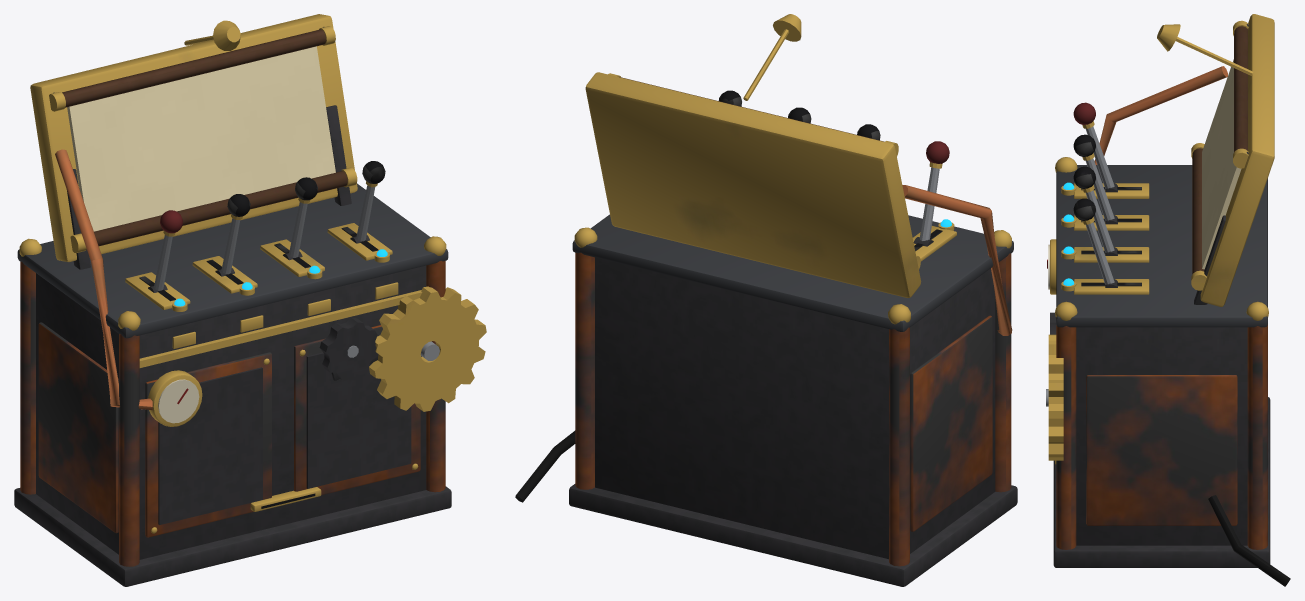
File: lever_terminal.glb
3 renders of one model, left to right at view 1: azimuth 30°, elevation 25°; view 2: azimuth 150°, elevation 25°; view 3: azimuth 270°, elevation 25°, orthographic. The views are drawn at different scales.
Parts seen in each view (by area): view 1: mrg_lever_terminal_iron, screenPaper, mrg_lever_terminal_rustyIron, top, mrg_screen_brass, mrg_lever_terminal_brass, tg, mrg_screen_woodDark, pipe, tgPinion, gaugeFace, gaugeCase (+1 smaller); view 2: mrg_lever_terminal_iron, mrg_screen_brass, mrg_lever_terminal_rustyIron, top, mrg_lever_terminal_brass, pipe, cable; view 3: mrg_lever_terminal_rustyIron, mrg_lever_terminal_iron, top, mrg_screen_brass, mrg_lever_terminal_brass, screenPaper, mrg_screen_woodDark, pipe, tg, cable, mrg_lever_terminal_paintBlack, lvRod3 (+8 smaller).
Boxes of the visible parts, x1=… form: mrg_lever_terminal_iron: x1=14, y1=105, x2=451, y2=586; screenPaper: x1=67, y1=46, x2=335, y2=231; mrg_lever_terminal_rustyIron: x1=20, y1=261, x2=445, y2=566; top: x1=17, y1=183, x2=448, y2=338; mrg_screen_brass: x1=30, y1=14, x2=357, y2=261; mrg_lever_terminal_brass: x1=19, y1=20, x2=446, y2=533; tg: x1=369, y1=286, x2=486, y2=411; mrg_screen_woodDark: x1=62, y1=29, x2=347, y2=246; pipe: x1=55, y1=149, x2=152, y2=410; tgPinion: x1=319, y1=317, x2=377, y2=380; gaugeFace: x1=158, y1=379, x2=199, y2=423; gaugeCase: x1=148, y1=370, x2=202, y2=426; mrg_lever_terminal_iron: x1=569, y1=257, x2=1017, y2=586; mrg_screen_brass: x1=585, y1=72, x2=921, y2=297; mrg_lever_terminal_rustyIron: x1=575, y1=252, x2=1011, y2=566; top: x1=572, y1=214, x2=1013, y2=331; mrg_lever_terminal_brass: x1=574, y1=14, x2=1011, y2=324; pipe: x1=902, y1=185, x2=1012, y2=335; cable: x1=515, y1=430, x2=575, y2=502; mrg_lever_terminal_rustyIron: x1=1056, y1=324, x2=1267, y2=549; mrg_lever_terminal_iron: x1=1053, y1=215, x2=1270, y2=567; top: x1=1056, y1=165, x2=1267, y2=327; mrg_screen_brass: x1=1191, y1=14, x2=1274, y2=306; mrg_lever_terminal_brass: x1=1055, y1=24, x2=1268, y2=464; screenPaper: x1=1202, y1=59, x2=1241, y2=269; mrg_screen_woodDark: x1=1192, y1=26, x2=1247, y2=274; pipe: x1=1094, y1=66, x2=1227, y2=164; tg: x1=1048, y1=334, x2=1063, y2=460; cable: x1=1208, y1=495, x2=1290, y2=586; mrg_lever_terminal_paintBlack: x1=1081, y1=187, x2=1141, y2=286; lvRod3: x1=1086, y1=222, x2=1114, y2=284.
Size of the model in its own units: 1.66 by 2.04 by 0.9714.
Materials: 14 (10 with a texture image).
